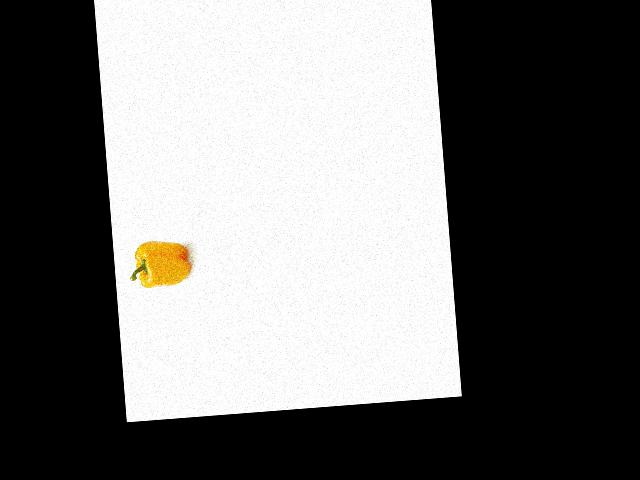bell_pepper: (124, 237, 193, 295)
